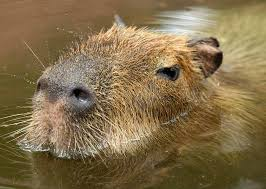capivara: (26, 14, 224, 159)
